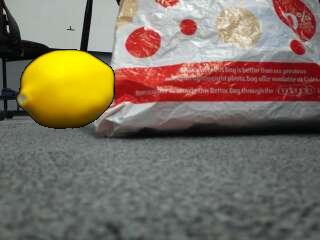lemon: (18, 50, 115, 128)
